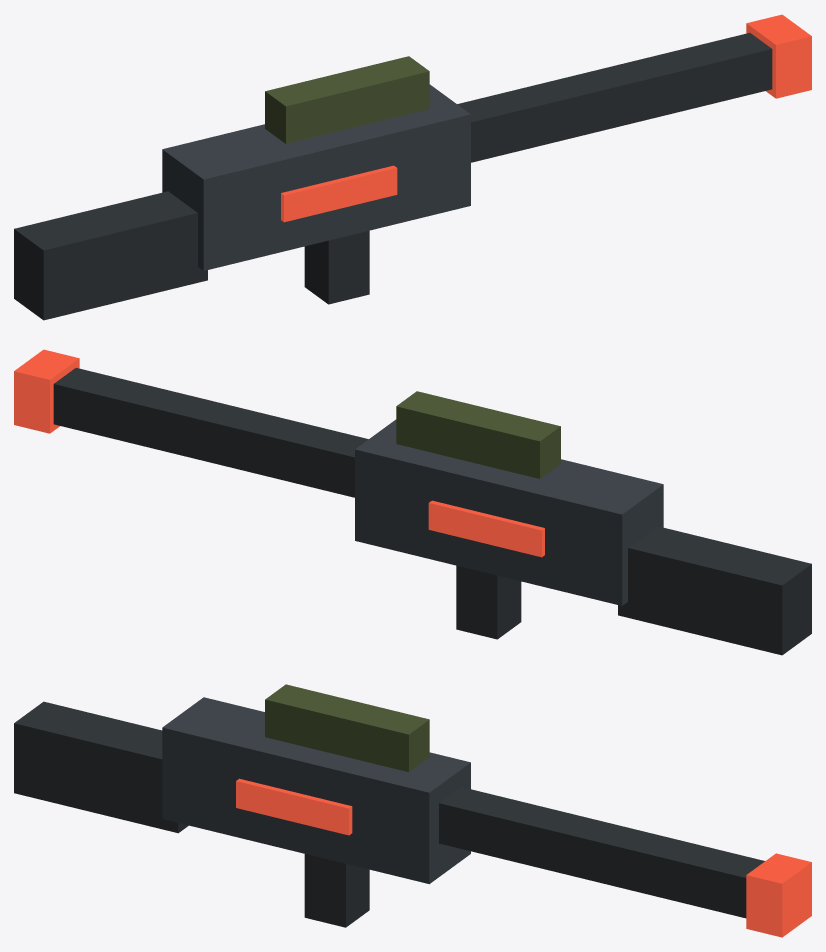
File: LaserGun.glb
The picture shows the model from 3 angles, top to bottom: view 1: azimuth 30°, elevation 25°; view 2: azimuth 150°, elevation 25°; view 3: azimuth 330°, elevation 25°; orthographic projection.
Parts seen in each view (by area): view 1: LaserGun; view 2: LaserGun; view 3: LaserGun.
Boxes of the visible parts, x1,y1,x2,y2 form: LaserGun: (14,14,811,320); LaserGun: (14,349,811,655); LaserGun: (14,684,811,937).
Size of the model in its own units: 14.95 by 3.85 by 1.62.
